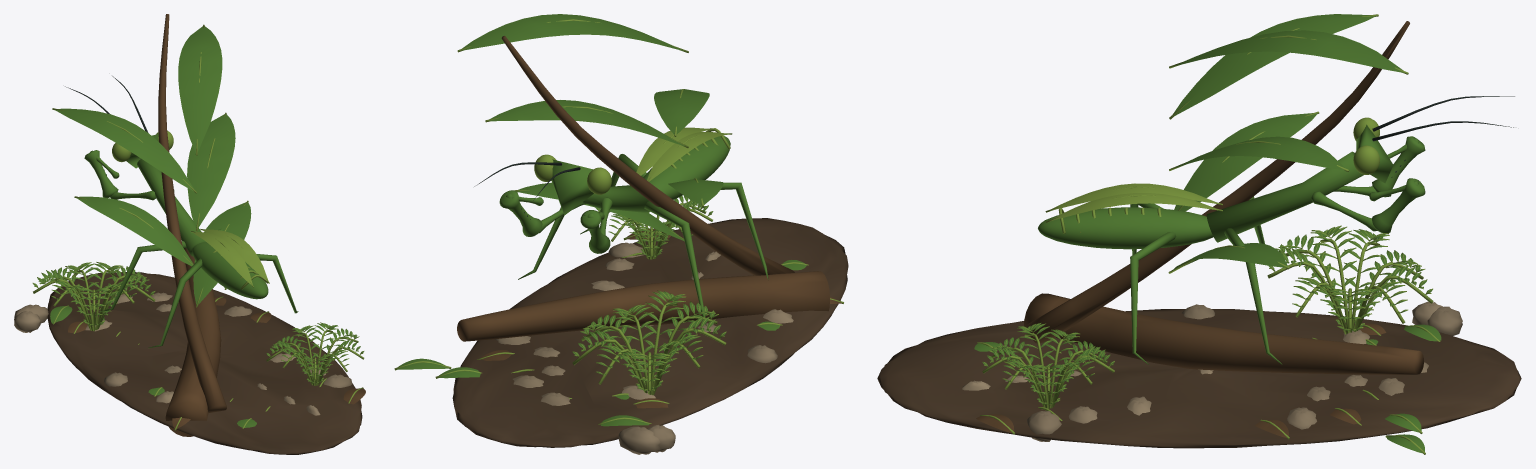
The picture shows the model from 3 angles, left to right: view 1: azimuth 30°, elevation 25°; view 2: azimuth 150°, elevation 25°; view 3: azimuth 270°, elevation 25°; orthographic projection. The views are drawn at different scales.
Parts seen in each view (by area): view 1: B06_SPEC_Bark_export; view 2: B06_SPEC_Bark_export; view 3: B06_SPEC_Bark_export.
Part boxes in pixels (box(x1,y1,x2,y2)): B06_SPEC_Bark_export: box(14, 14, 365, 454); B06_SPEC_Bark_export: box(394, 14, 848, 454); B06_SPEC_Bark_export: box(877, 14, 1521, 454).
Size of the model in its own units: 1.19 by 1.49 by 2.16.
